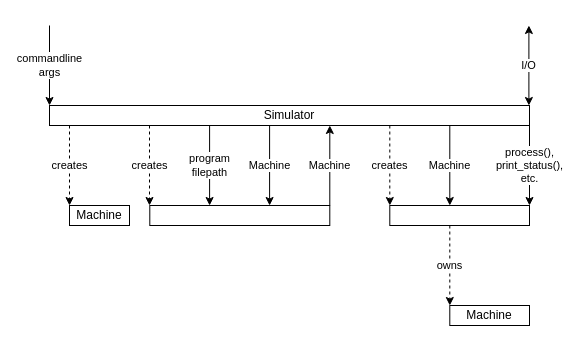
This 580x343 diagram has some shape labels left out. The shapes that lost their labels are listed below. From the top down, each one's box as (x1, y1, x2, y2) in pixels, then its label:
(149, 204, 330, 226): Loader
(389, 204, 530, 226): Interpreter
